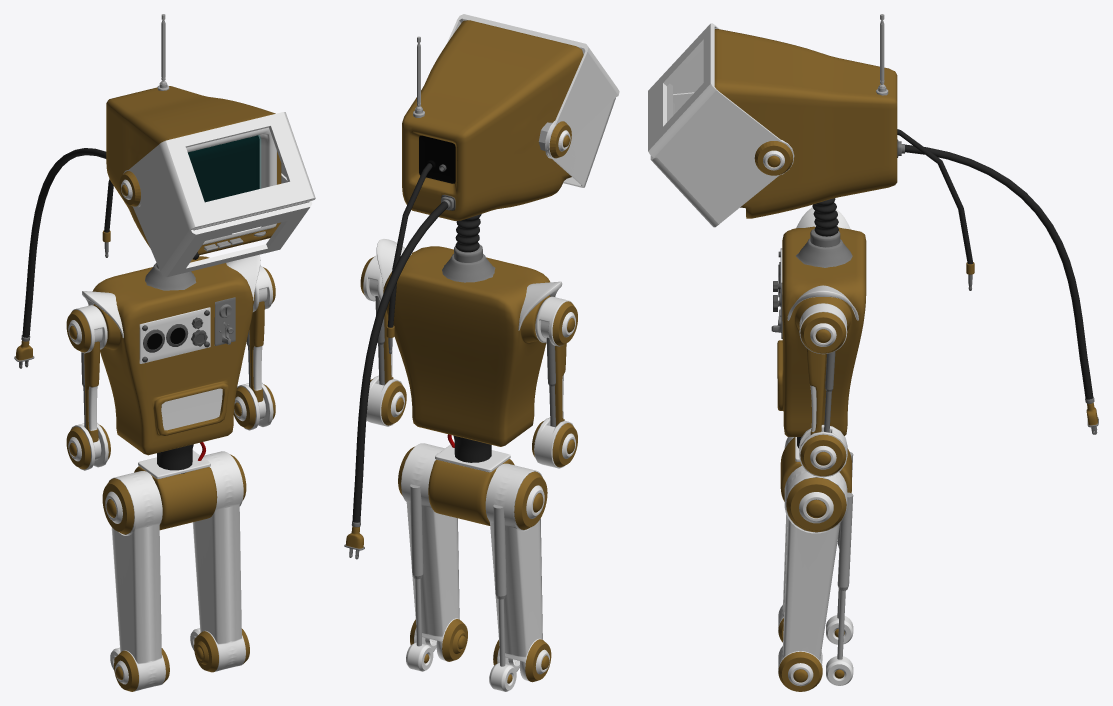
Rendered from Robot.fbx.
3 views of the same model, side by side, from view 1: azimuth 30°, elevation 25°; view 2: azimuth 150°, elevation 25°; view 3: azimuth 270°, elevation 25° (orthographic). The views are drawn at different scales.
Visible parts, largest first — view 1: Chest, Head, LegL, SheildTop, LegR, SheildBottom, ArmR, Core, ArmL, Cord1, Flap, Cord2; view 2: Head, Chest, LegL, LegR, ArmR, Core, SheildTop, Cord1, ArmL, SheildBottom, Cord2, Neck; view 3: Head, Chest, LegR, SheildTop, ArmL, SheildBottom, Cord1, Cord2, LegL, Core, Neck.
Part boxes in pixels (left/top/right/bottom): Chest: left=82, top=254, right=260, bottom=455; Head: left=106, top=82, right=281, bottom=259; LegL: left=102, top=471, right=169, bottom=691; SheildTop: left=123, top=112, right=315, bottom=230; LegR: left=190, top=451, right=249, bottom=672; SheildBottom: left=133, top=173, right=312, bottom=277; ArmR: left=66, top=305, right=110, bottom=470; Core: left=134, top=442, right=217, bottom=530; ArmL: left=233, top=265, right=275, bottom=430; Cord1: left=14, top=148, right=106, bottom=368; Flap: left=161, top=388, right=222, bottom=430; Cord2: left=102, top=179, right=113, bottom=257; Head: left=402, top=20, right=583, bottom=220; Chest: left=376, top=239, right=562, bottom=446; LegL: left=485, top=463, right=551, bottom=691; LegR: left=398, top=443, right=467, bottom=671; ArmR: left=532, top=296, right=577, bottom=468; Core: left=428, top=434, right=514, bottom=525; SheildTop: left=447, top=14, right=619, bottom=158; Cord1: left=344, top=201, right=448, bottom=559; ArmL: left=360, top=255, right=406, bottom=426; SheildBottom: left=545, top=98, right=615, bottom=187; Cord2: left=386, top=163, right=432, bottom=354; Neck: left=455, top=214, right=481, bottom=252; Head: left=714, top=29, right=904, bottom=218; Chest: left=771, top=207, right=866, bottom=436; LegR: left=778, top=466, right=853, bottom=691; SheildTop: left=648, top=23, right=794, bottom=176; ArmL: left=799, top=303, right=847, bottom=477; SheildBottom: left=650, top=92, right=786, bottom=227; Cord1: left=905, top=144, right=1098, bottom=434; Cord2: left=897, top=129, right=974, bottom=290; LegL: left=778, top=437, right=853, bottom=644; Core: left=780, top=437, right=851, bottom=501; Neck: left=812, top=198, right=838, bottom=236.
Size of the model in its own units: 2.06 by 6.2 by 3.84.
